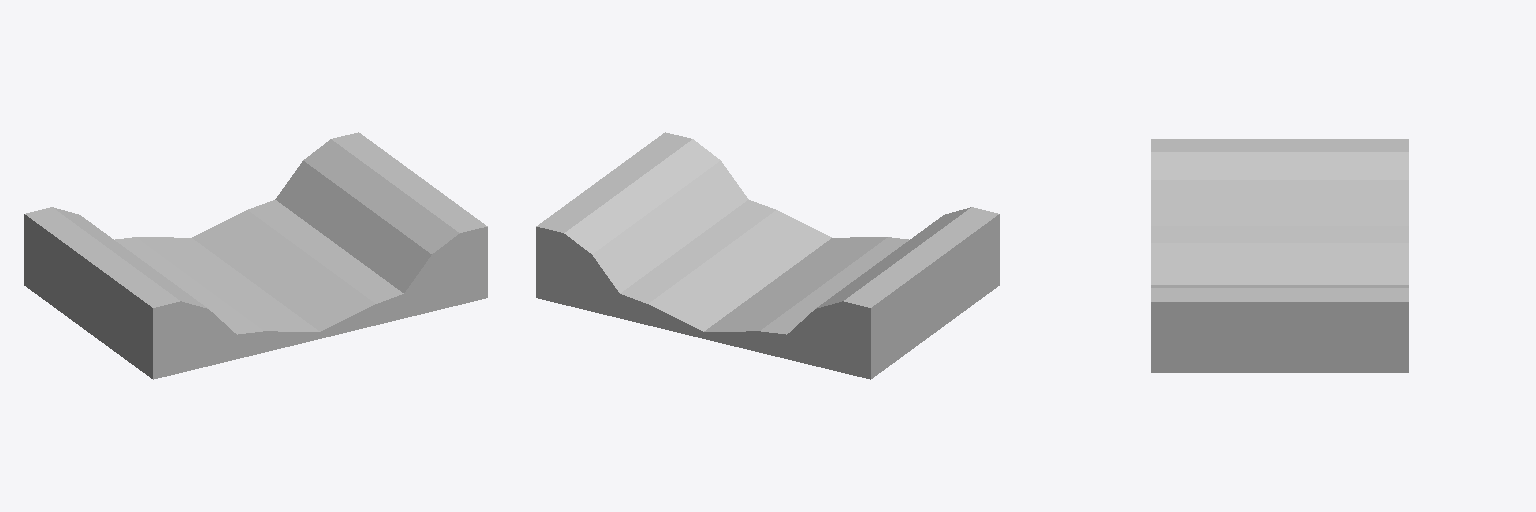
File: ramp.obj
3 views of the same model, side by side, from view 1: azimuth 30°, elevation 25°; view 2: azimuth 150°, elevation 25°; view 3: azimuth 270°, elevation 25° (orthographic).
Visible parts, largest first — view 1: Cube_Cube.001_Material_metal065.jpg; view 2: Cube_Cube.001_Material_metal065.jpg; view 3: Cube_Cube.001_Material_metal065.jpg.
Part boxes in pixels (x1,y1,x2,y2): Cube_Cube.001_Material_metal065.jpg: (24, 132, 487, 379); Cube_Cube.001_Material_metal065.jpg: (536, 132, 999, 379); Cube_Cube.001_Material_metal065.jpg: (1151, 139, 1408, 372).
Size of the model in its own units: 48 by 9.82 by 32.